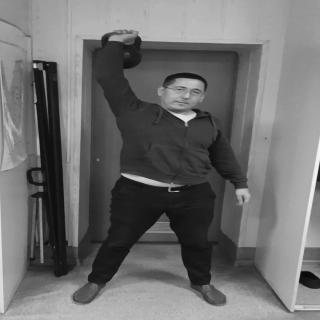kettlebell: (100, 33, 145, 70)
